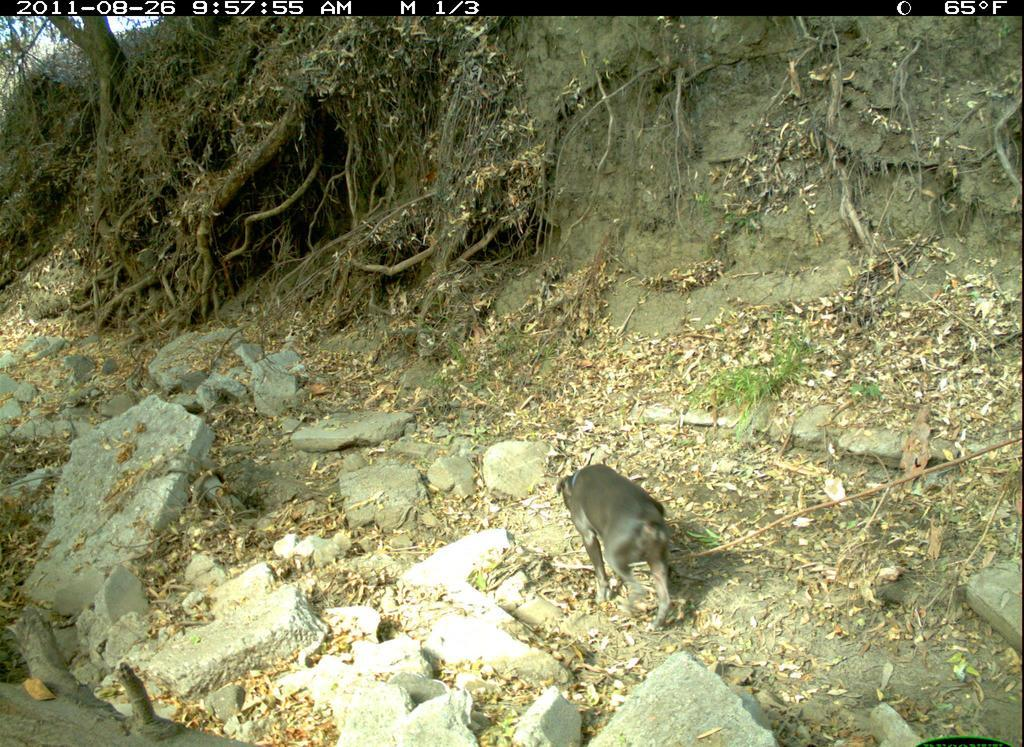dog: (552, 451, 694, 634)
